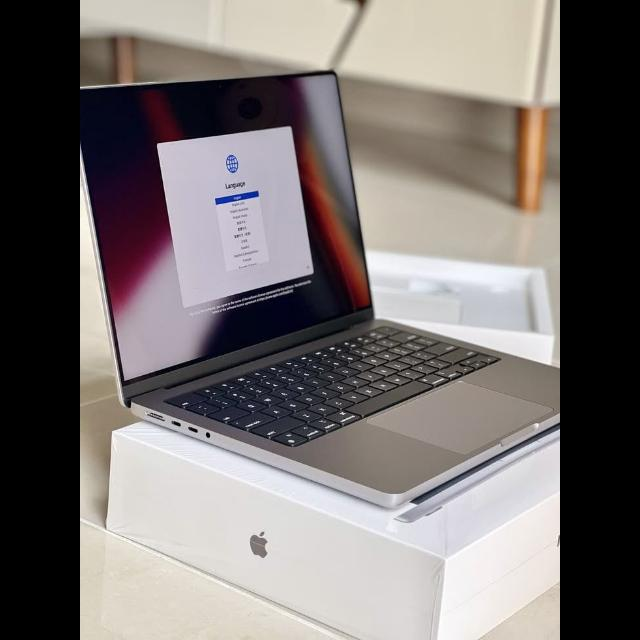laptop: (84, 76, 560, 494)
